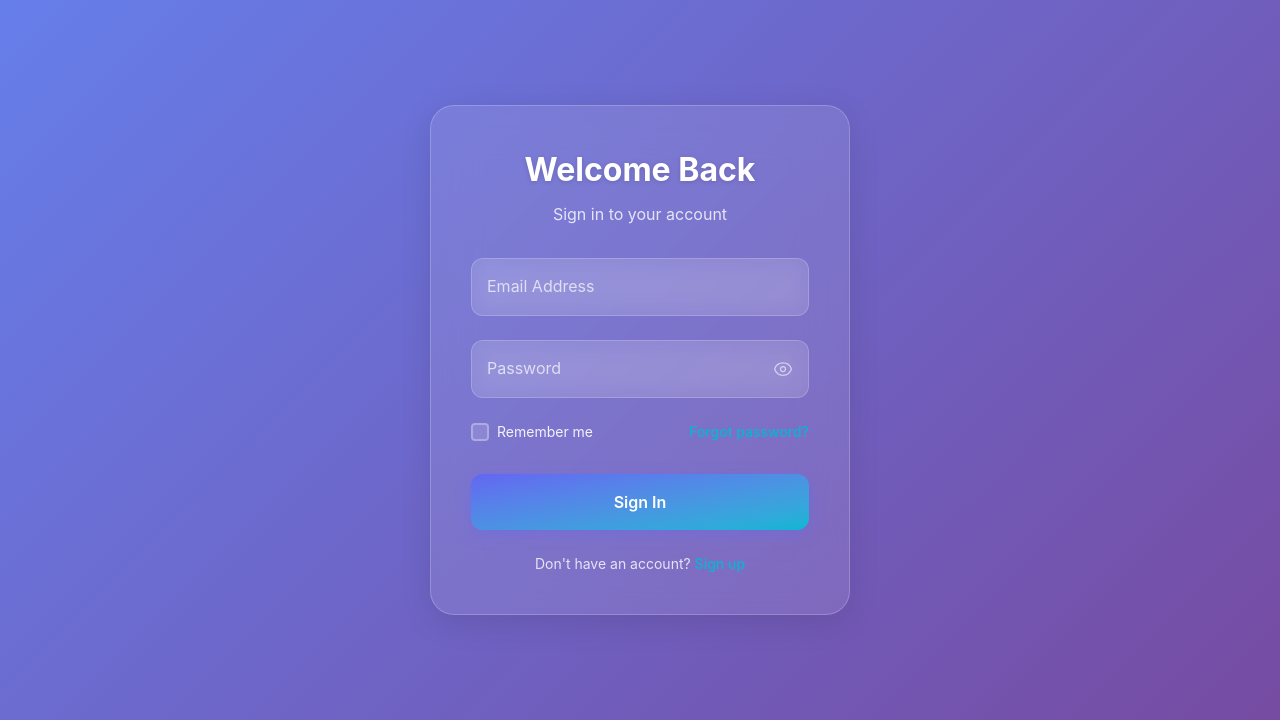
Scenario: Login Component (UC-01) - Integration Test › nên gọi authService.login và chuyển hướng khi đăng nhập thành công
The width and height of the screenshot is (1280, 720).
Step 1. Type "hoanglong434gl@gmail.com" into the field labelled "Email Address" → x=640, y=287, box [471,258,809,316]
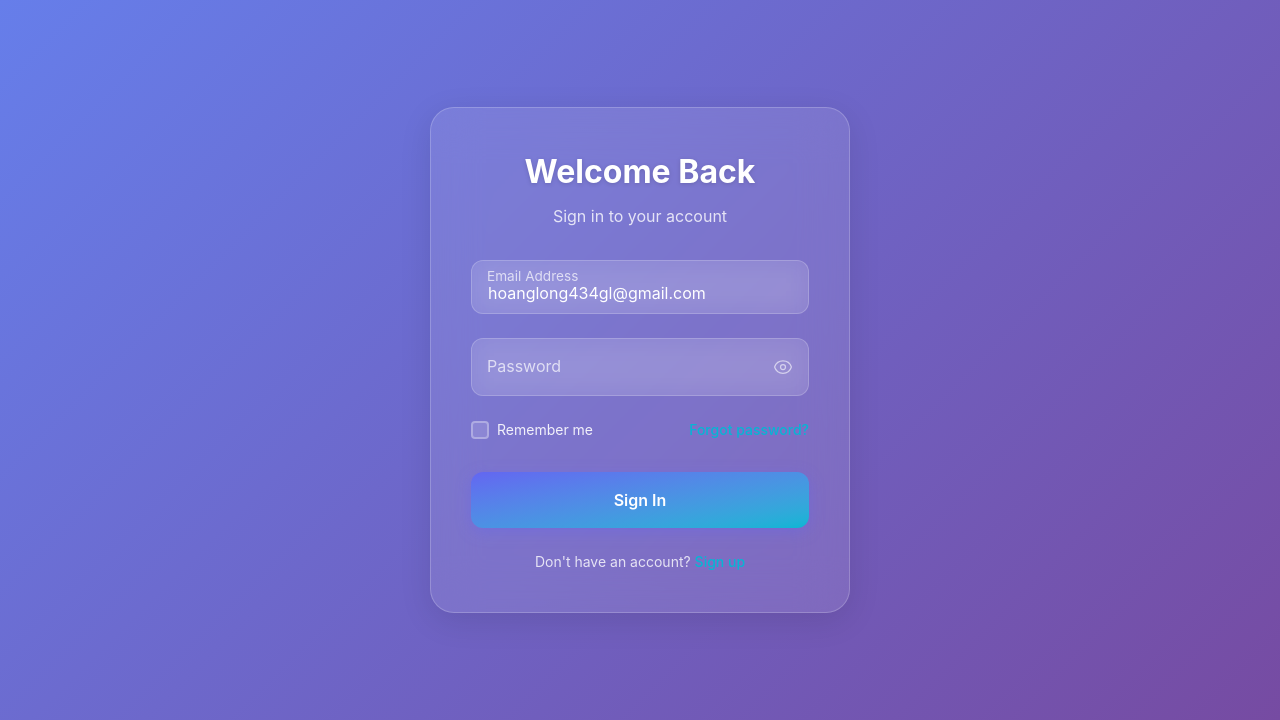
Step 2. Type "123456" into the password field labelled "Password" → x=640, y=367, box [471,338,809,396]
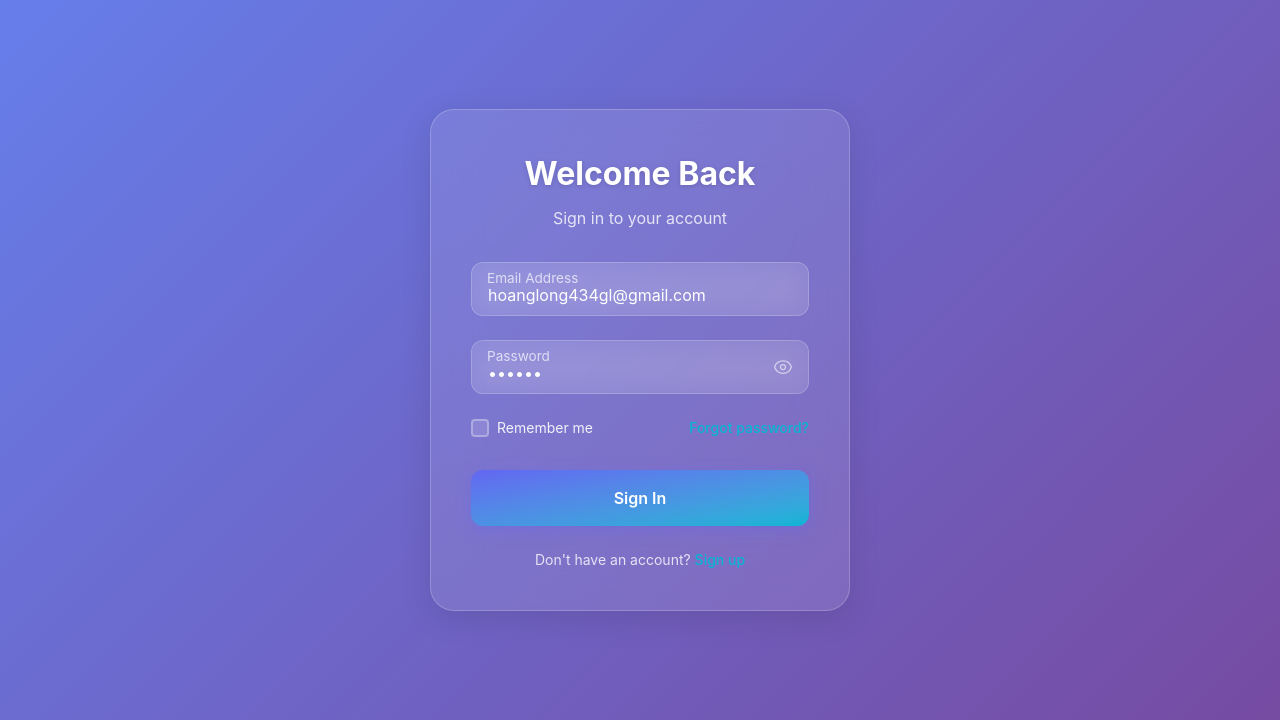
Step 3. Click the button "Sign In" → x=640, y=498, box [471,470,809,526]
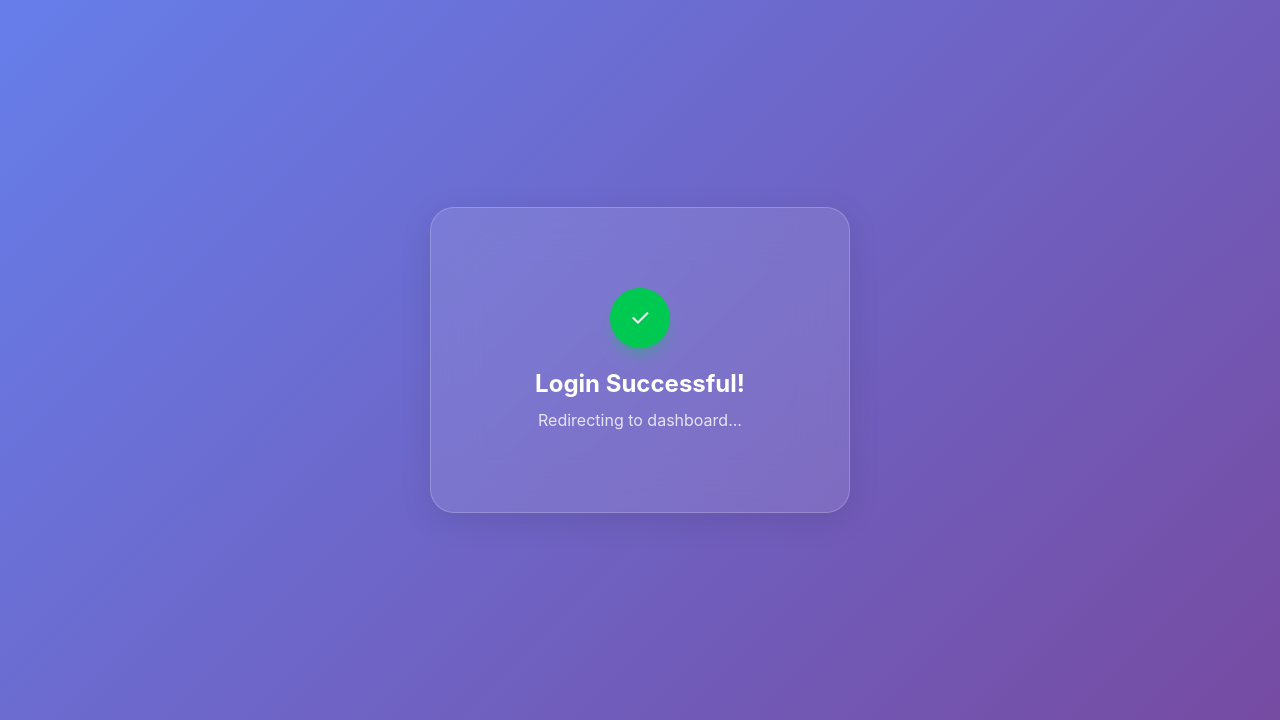
Expected: the heading "Login Successful!" is shown, [535,369,745,398]
